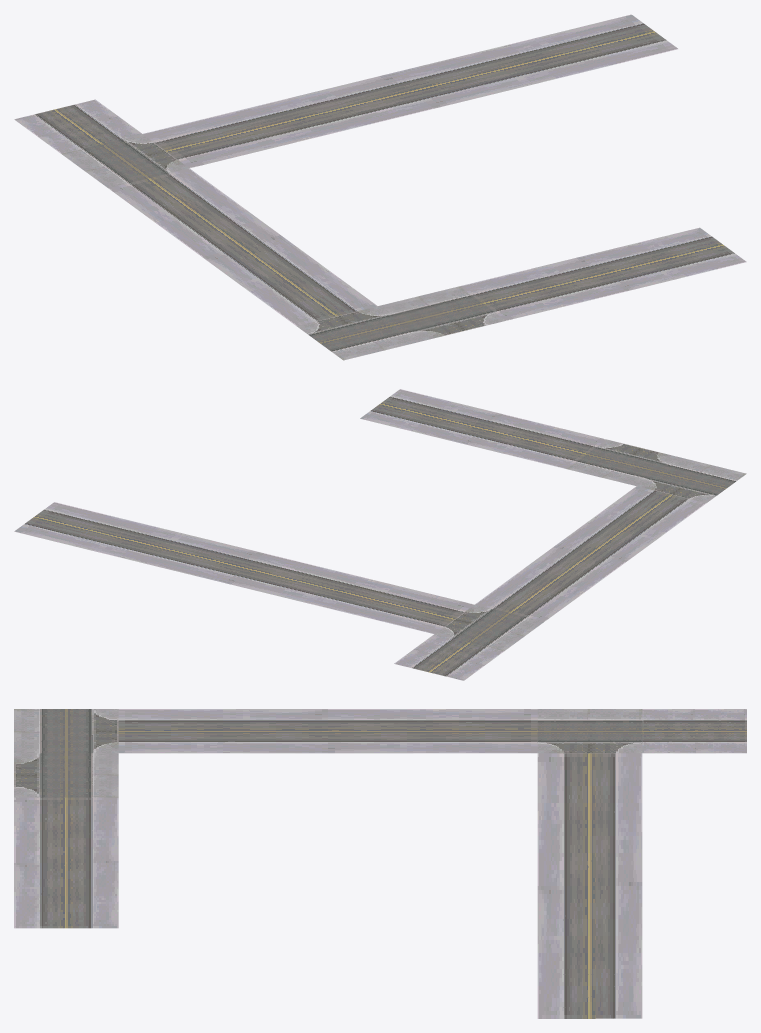
File: lodasnroad04.obj
The picture shows the model from 3 angles, top to bottom: view 1: azimuth 30°, elevation 25°; view 2: azimuth 150°, elevation 25°; view 3: azimuth 270°, elevation 25°; orthographic projection. The views are drawn at different scales.
Parts seen in each view (by area): view 1: lodasNroad04; view 2: lodasNroad04; view 3: lodasNroad04.
Boxes of the visible parts, x1,y1,x2,y2 form: lodasNroad04: [14, 14, 746, 360]; lodasNroad04: [14, 389, 746, 680]; lodasNroad04: [14, 709, 746, 1018].
Bounding box in the file's own units: 140 × 0.03 × 140.
2 materials, 2 textured.
